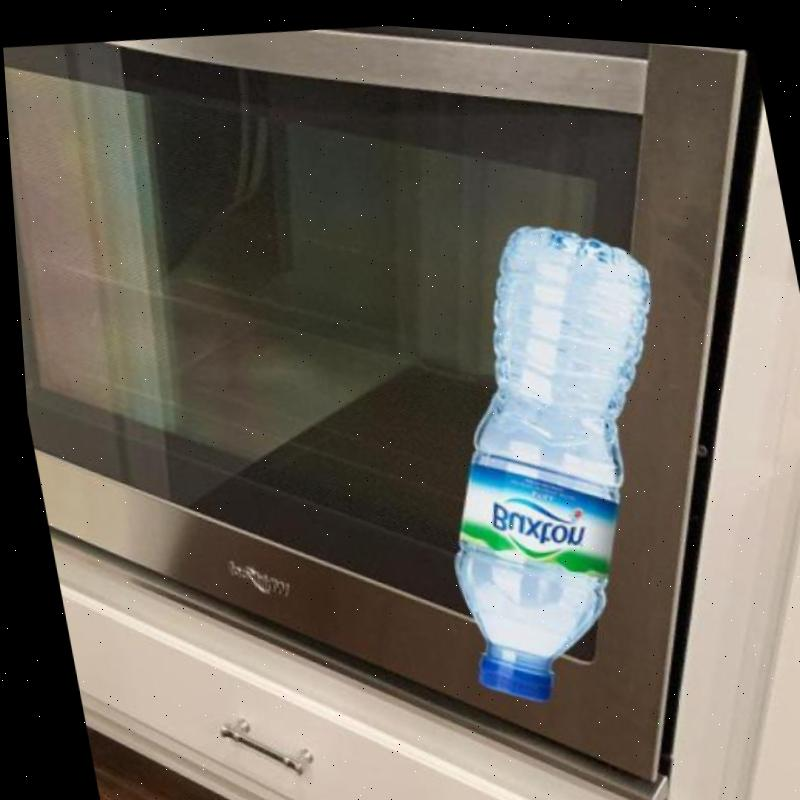botella: (386, 195, 725, 709)
